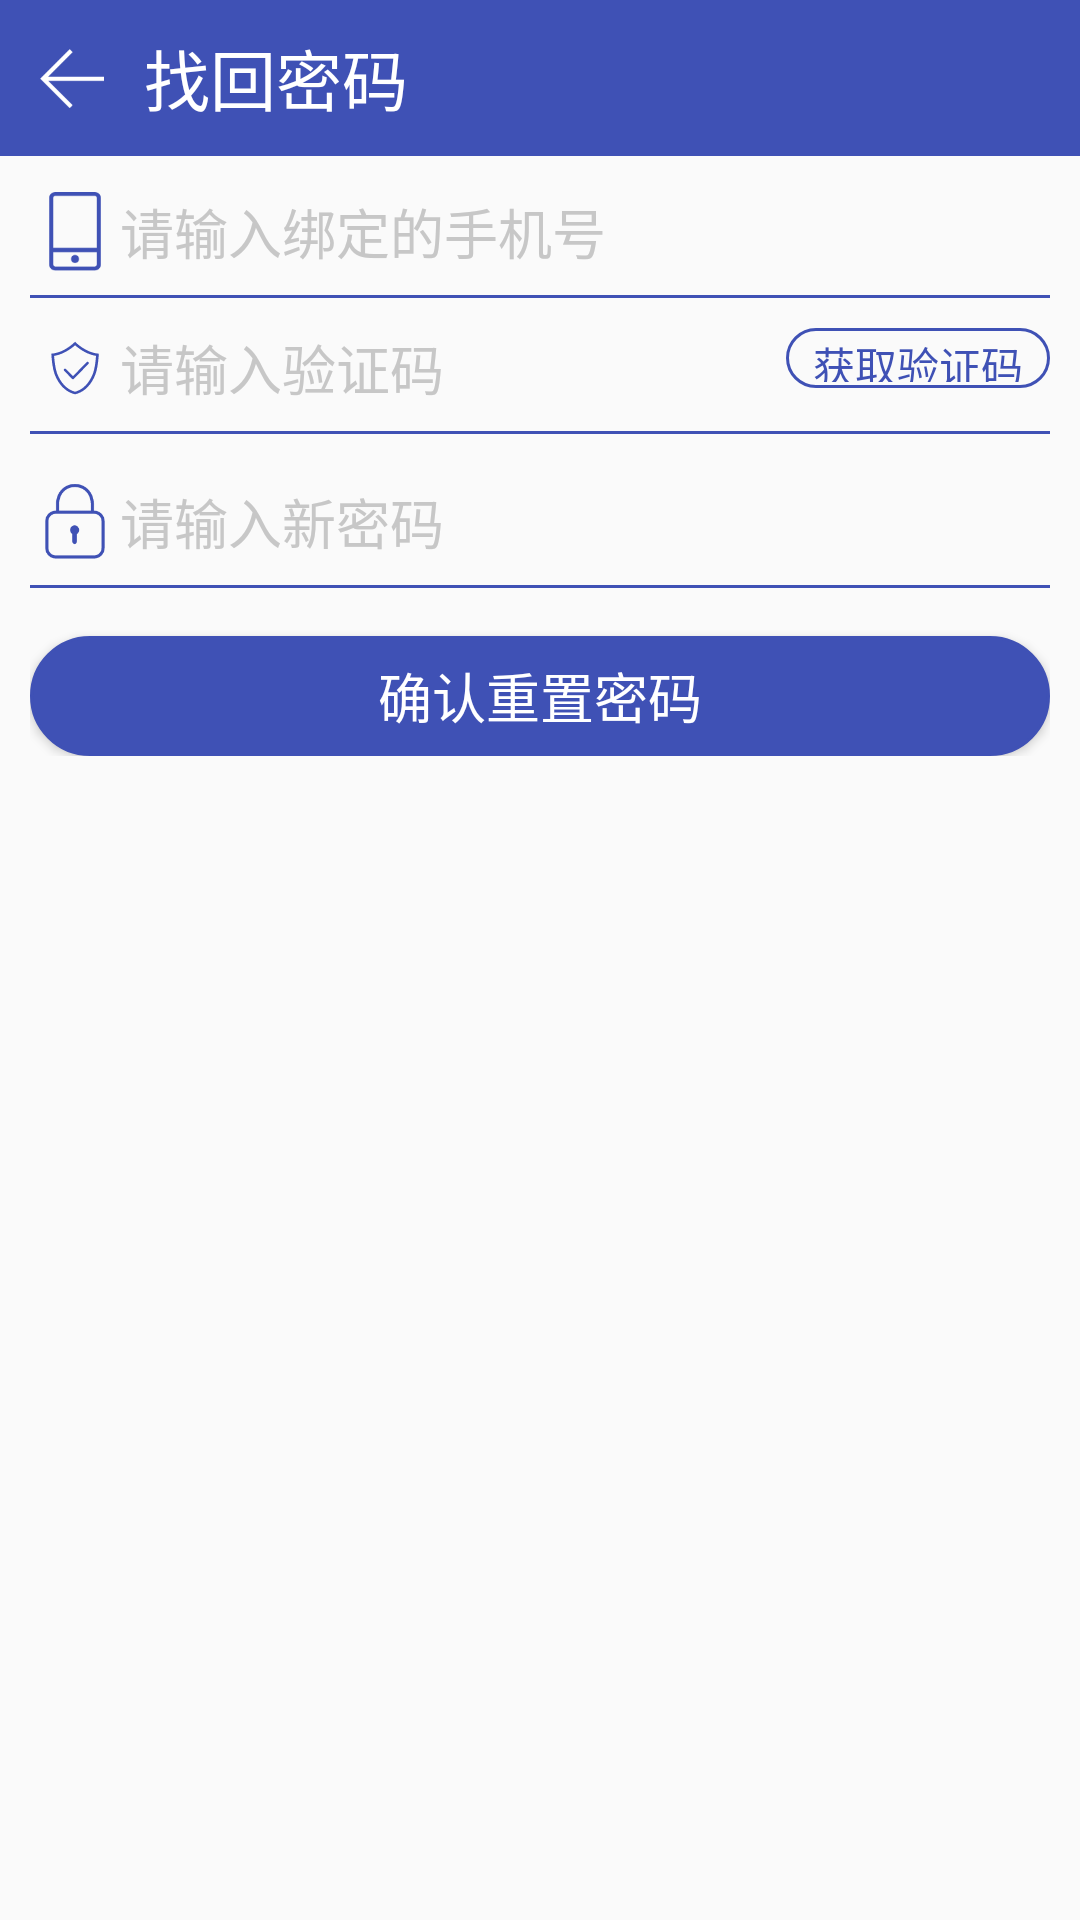

Icon bounding boxes for this 1080px x 1920px phone screenshot, format (x1, y1, x2, y2):
back: (40, 49, 104, 108)
phone: (49, 192, 101, 271)
secret: (45, 484, 105, 559)
